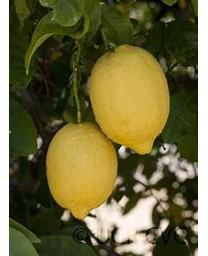lemon: (88, 44, 168, 154), (47, 123, 118, 218)
